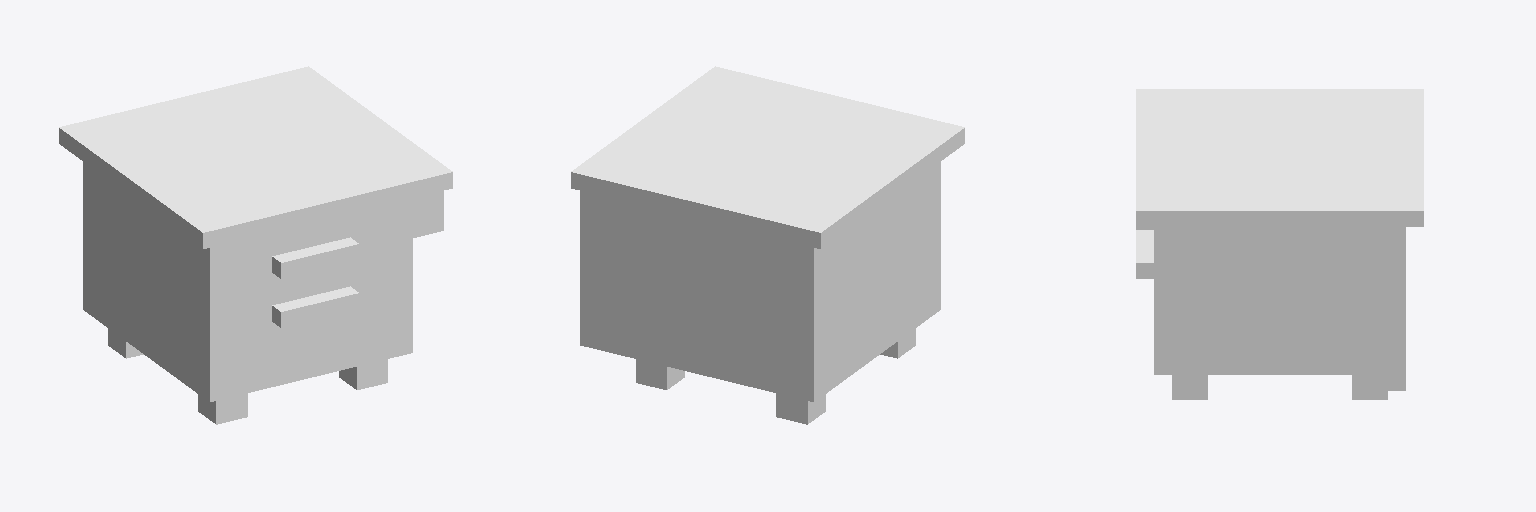
The model's file is ManagerDeskV1End.obj.
The picture shows the model from 3 angles: view 1: azimuth 30°, elevation 25°; view 2: azimuth 150°, elevation 25°; view 3: azimuth 270°, elevation 25°; orthographic projection.
Visible parts, largest first — view 1: object 1; view 2: object 1; view 3: object 1.
Boxes of the visible parts, x1,y1,x2,y2 form: object 1: [59, 66, 452, 424]; object 1: [571, 66, 964, 424]; object 1: [1136, 89, 1423, 399].
Bounding box in the file's own units: 1.6 × 1.3 × 1.6.